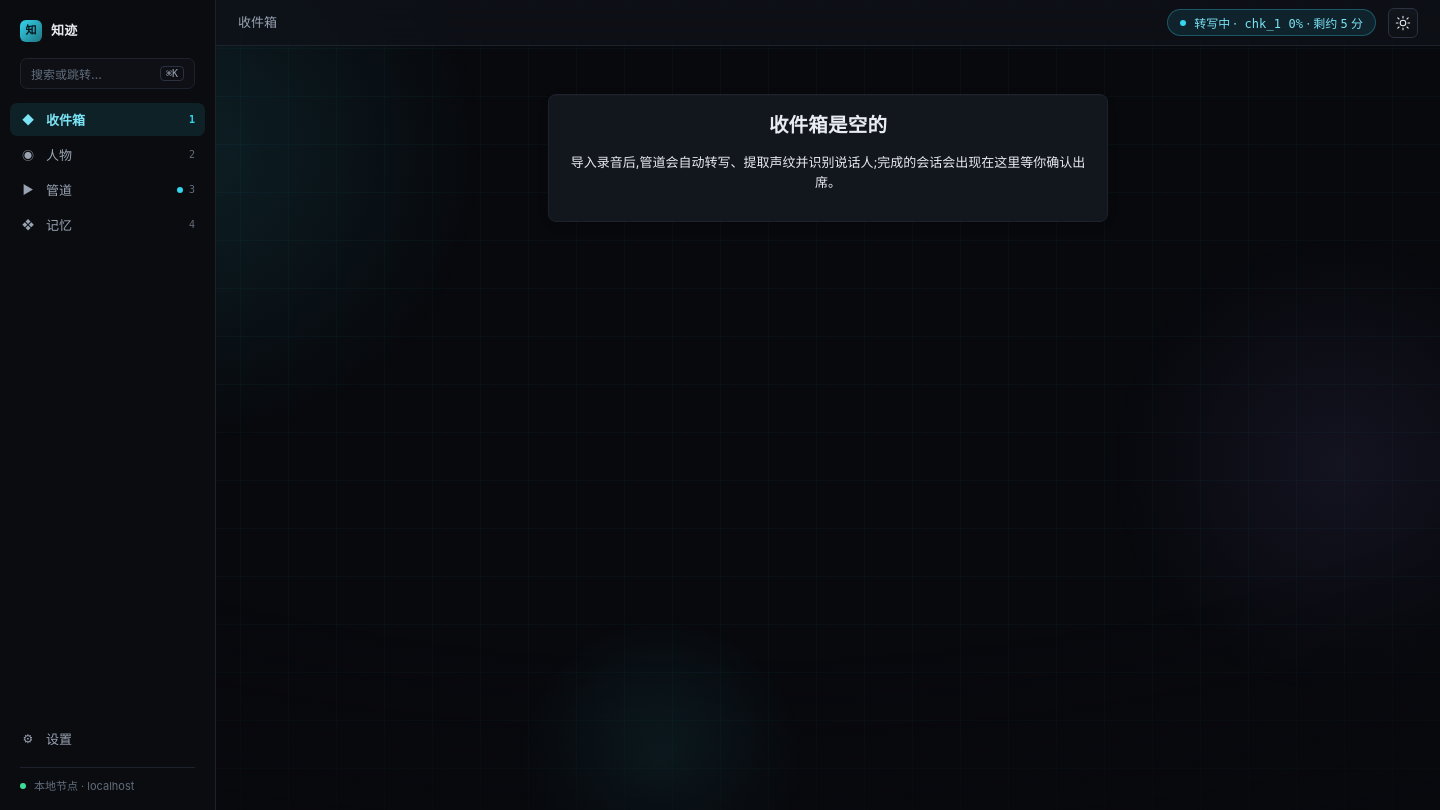
Test: App container › shows per-stage breakdown, ETA, and task count from the summary without opening the task list
Click the tab "▶ 管道 3". click: {"x": 108, "y": 190}
box: [10, 173, 205, 206]
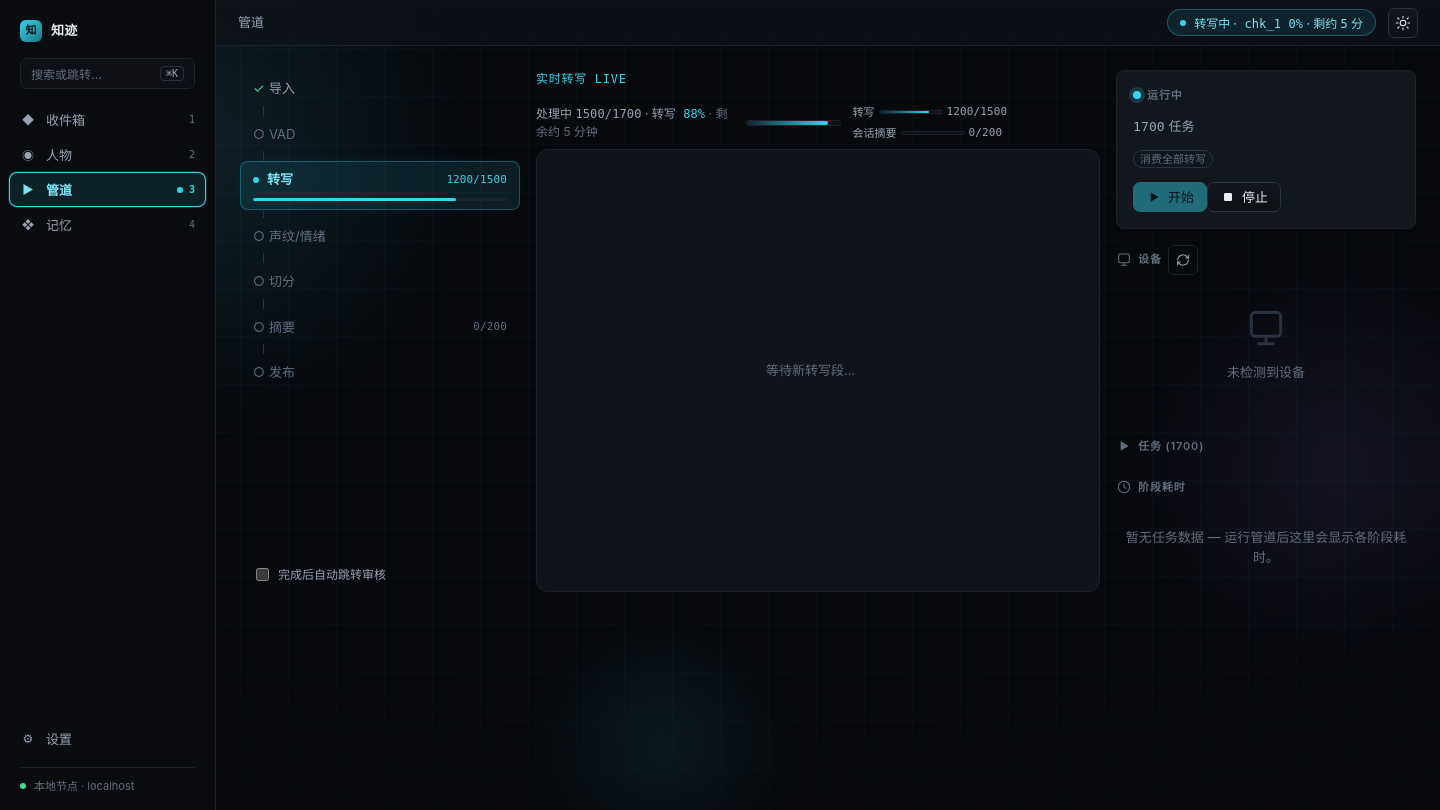
Expected: the text "1200/1500" below "VAD" is shown, [446, 172, 507, 188]
Expected: the text "· 剩余约 5 分钟" is shown, [536, 106, 727, 138]
Expected: the text "1700" is shown, [1133, 118, 1165, 134]
